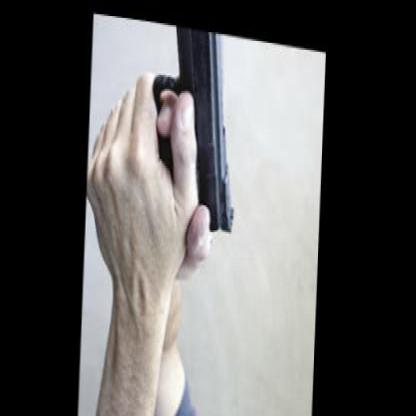pistol: (144, 17, 247, 231)
